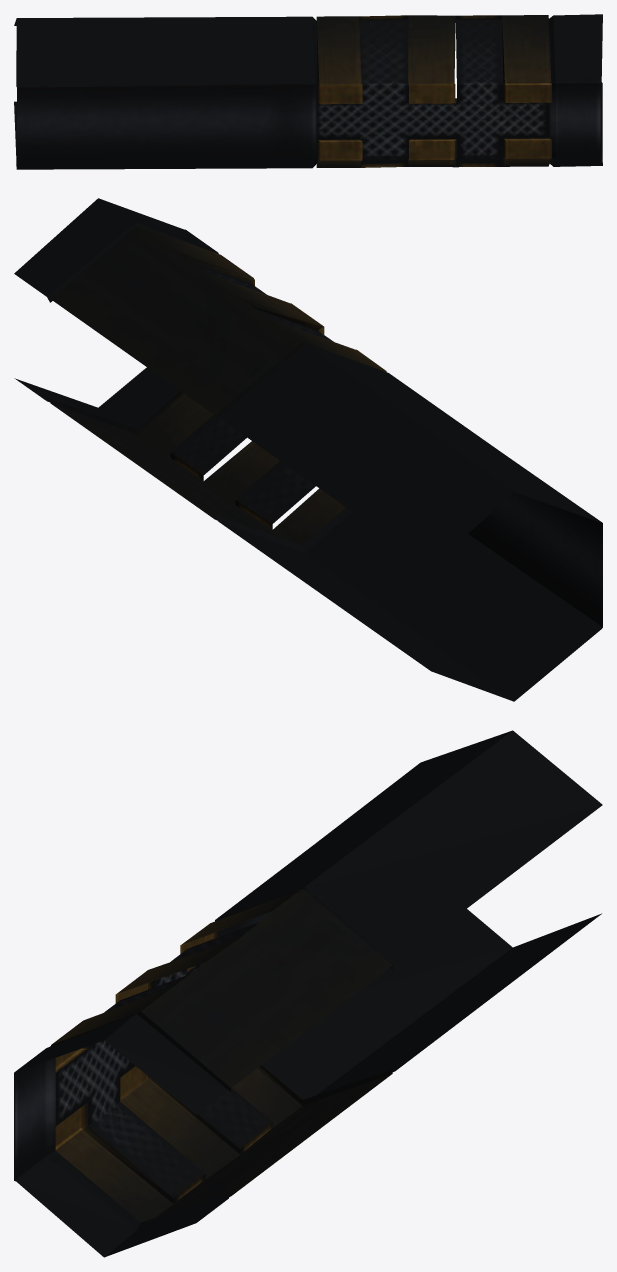
File: v_rock_3.obj
The picture shows the model from 3 angles, top to bottom: view 1: azimuth 30°, elevation 25°; view 2: azimuth 150°, elevation 25°; view 3: azimuth 270°, elevation 25°; orthographic projection. The views are drawn at different scales.
Size of the model in its own units: 18.38 by 5.28 by 12.98.
1 material, 1 textured.
